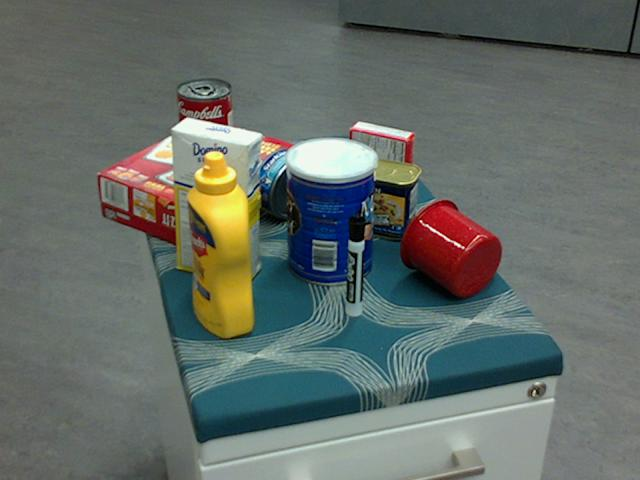cracker_box: (97, 116, 298, 255)
gelatin_box: (349, 121, 415, 187)
large_marker: (347, 213, 365, 317)
master_chef_can: (285, 137, 377, 285)
mug: (399, 198, 502, 297)
mustard_bottle: (187, 151, 253, 338)
potted_meat_can: (335, 155, 420, 238)
sugar_box: (171, 118, 261, 285)
tomato_soup_can: (176, 78, 234, 174)
tuna_fish_can: (251, 148, 314, 218)
